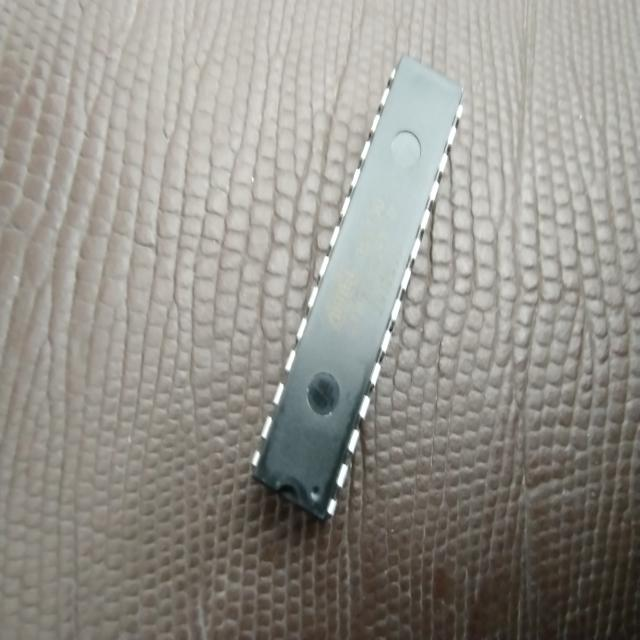atmega: (248, 51, 466, 524)
